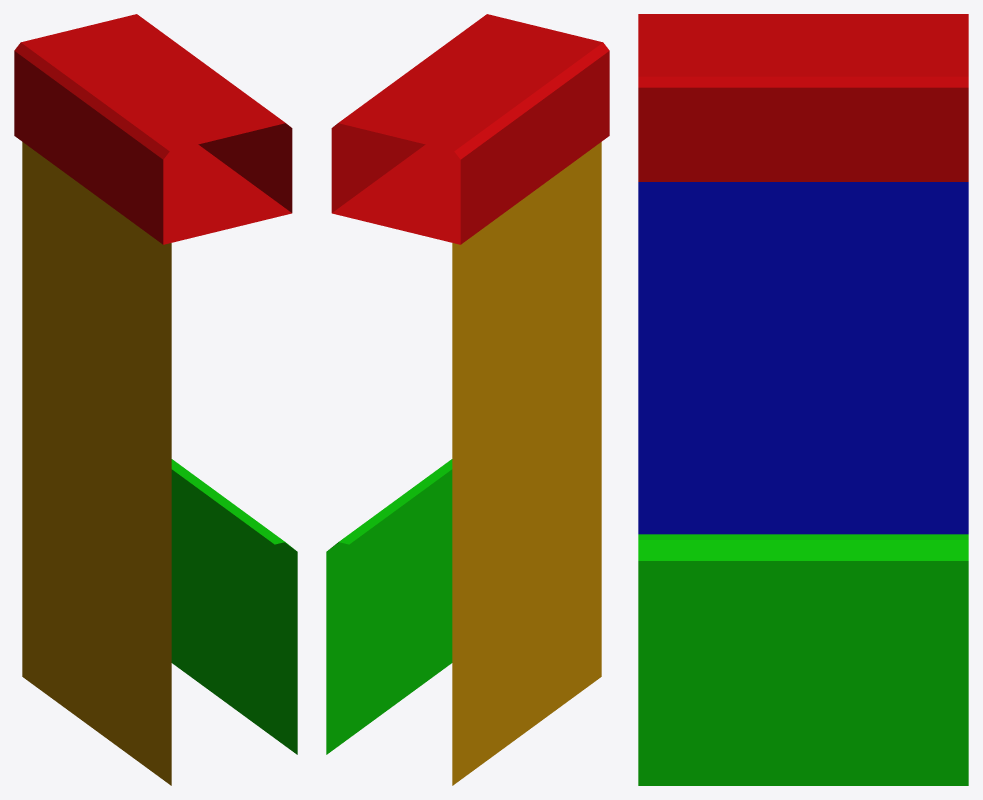
The model's file is Wall.fbx.
3 views of the same model, side by side, from view 1: azimuth 30°, elevation 25°; view 2: azimuth 150°, elevation 25°; view 3: azimuth 270°, elevation 25° (orthographic). The views are drawn at different scales.
Visible parts, largest first — view 1: B; view 2: B; view 3: B.
Boxes of the visible parts, <box> form: B: <box>14,14,297,785</box>; B: <box>326,14,609,785</box>; B: <box>638,14,968,785</box>.
Bounding box in the file's own units: 104 × 200 × 470.
